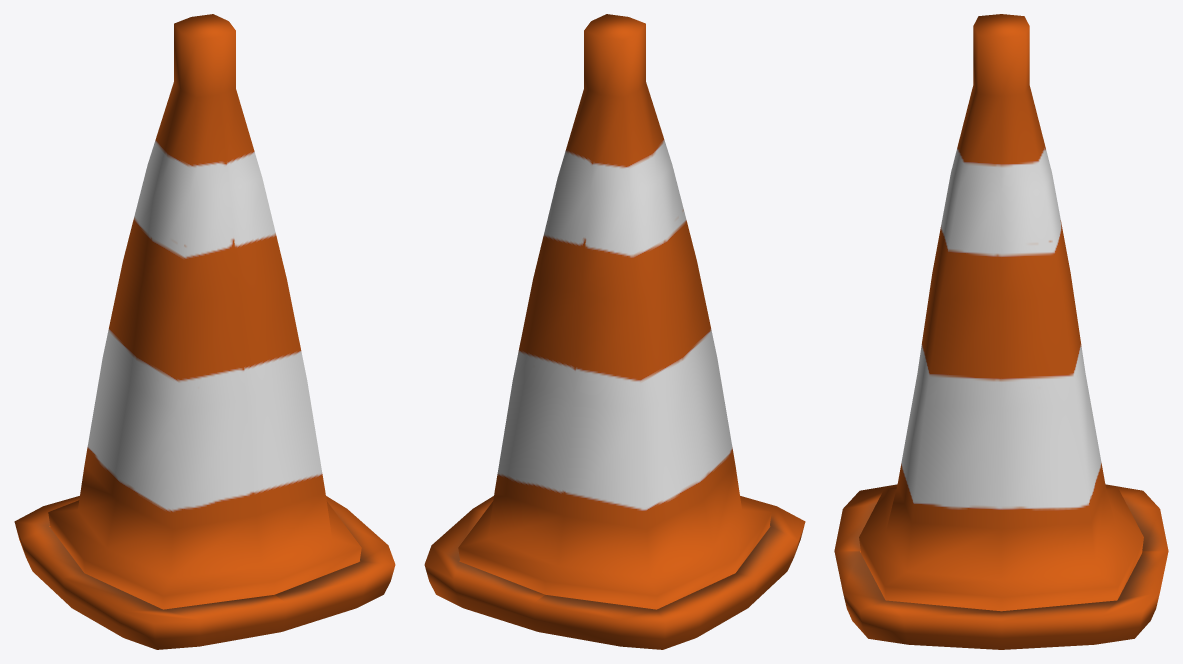
The picture shows the model from 3 angles, left to right: view 1: azimuth 30°, elevation 25°; view 2: azimuth 150°, elevation 25°; view 3: azimuth 270°, elevation 25°; orthographic projection.
Parts seen in each view (by area): view 1: TrafficCone; view 2: TrafficCone; view 3: TrafficCone.
Boxes of the visible parts, x1,y1,x2,y2 form: TrafficCone: [14, 14, 395, 649]; TrafficCone: [424, 14, 805, 649]; TrafficCone: [834, 14, 1168, 649].
Size of the model in its own units: 103 by 190 by 103.
